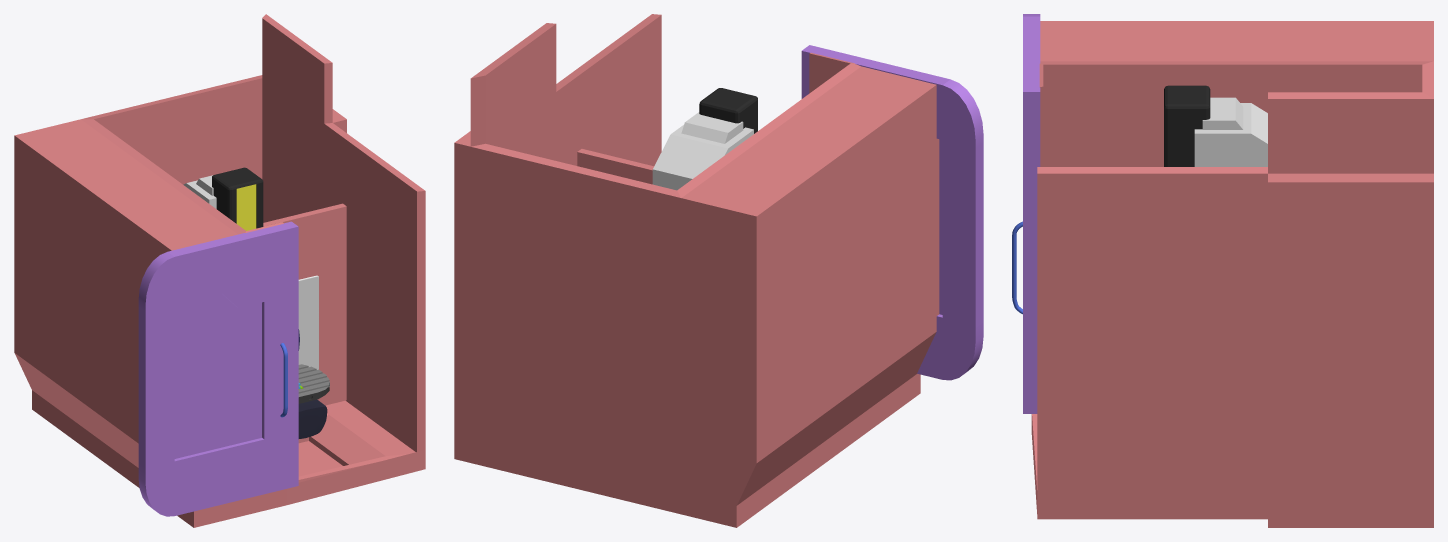
Rendered from Miling-machine-0607 (1).fbx.
3 views of the same model, side by side, from view 1: azimuth 30°, elevation 25°; view 2: azimuth 150°, elevation 25°; view 3: azimuth 270°, elevation 25° (orthographic). The views are drawn at different scales.
Parts seen in each view (by area): view 1: Solid, Door, Cube_3, Back, Circle, Up_table; view 2: Solid, Door, Cube_3; view 3: Solid, Cube_3, Door.
Part boxes in pixels (left/top/right/bottom): Solid: left=14, top=14, right=425, bottom=527; Door: left=138, top=221, right=298, bottom=516; Cube_3: left=183, top=167, right=263, bottom=230; Back: left=298, top=275, right=318, bottom=369; Circle: left=298, top=329, right=327, bottom=438; Up_table: left=298, top=364, right=329, bottom=403; Solid: left=454, top=14, right=939, bottom=527; Door: left=801, top=45, right=983, bottom=380; Cube_3: left=652, top=88, right=757, bottom=190; Solid: left=1031, top=21, right=1433, bottom=527; Cube_3: left=1164, top=85, right=1267, bottom=166; Door: left=1012, top=14, right=1040, bottom=413.
Bounding box in the file's own units: 2118 × 2290 × 2075.
